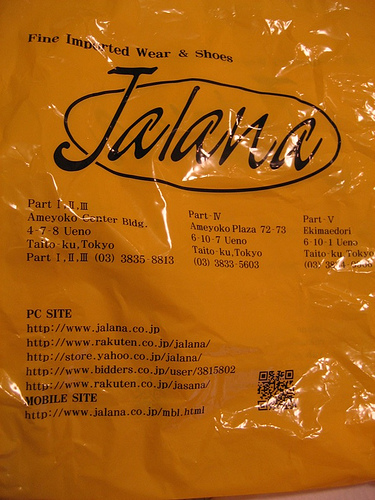QR-CODE: (258, 370, 292, 410)
